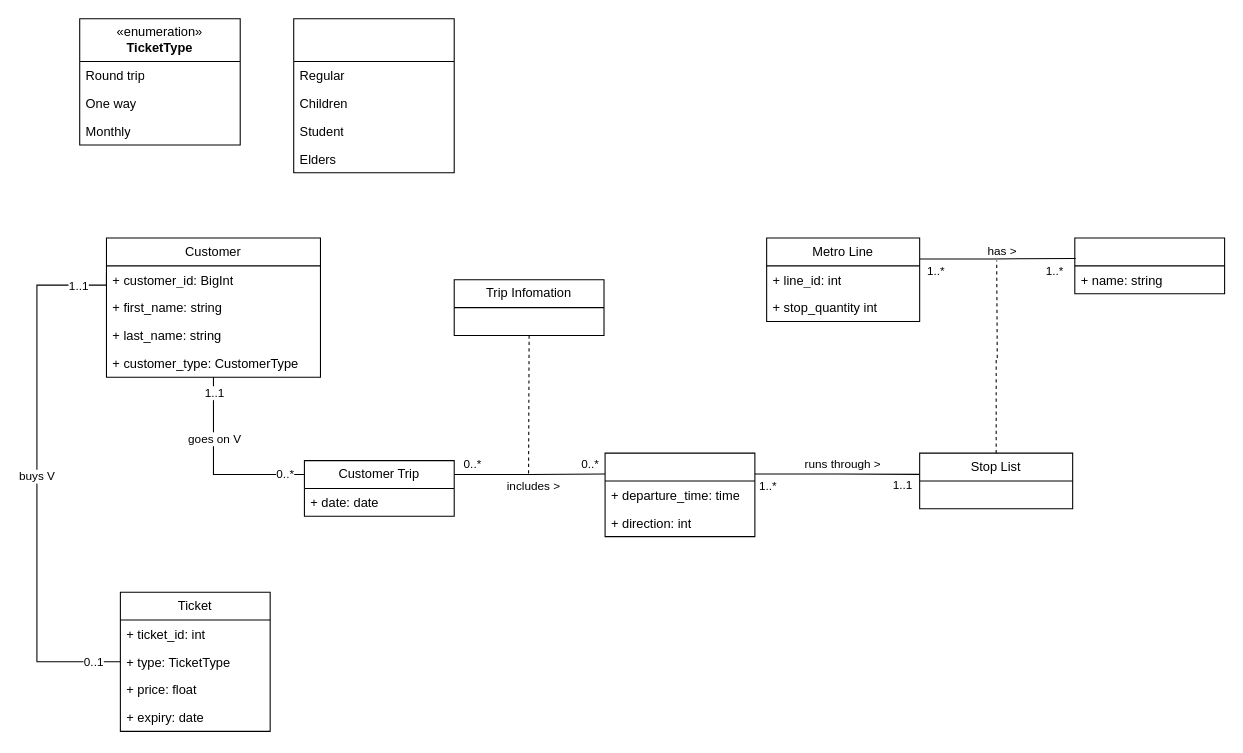
Some shapes in this 1243 by 753 pixel diagram are drawn without their labels. Here are the shapes that lost their labels. From the top down, the box of each, then its label:
(293, 18, 454, 173): «enumeration» CustomerType
(1074, 237, 1225, 294): Metro Stop
(604, 452, 755, 537): Metro Trip
